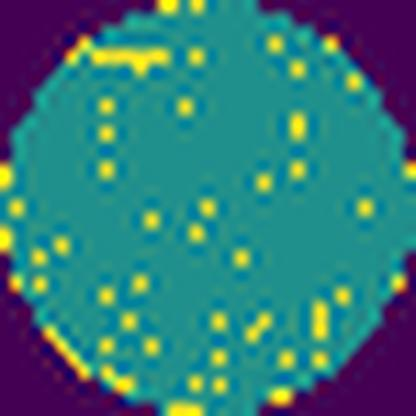Scratch: (84, 42, 178, 84)
